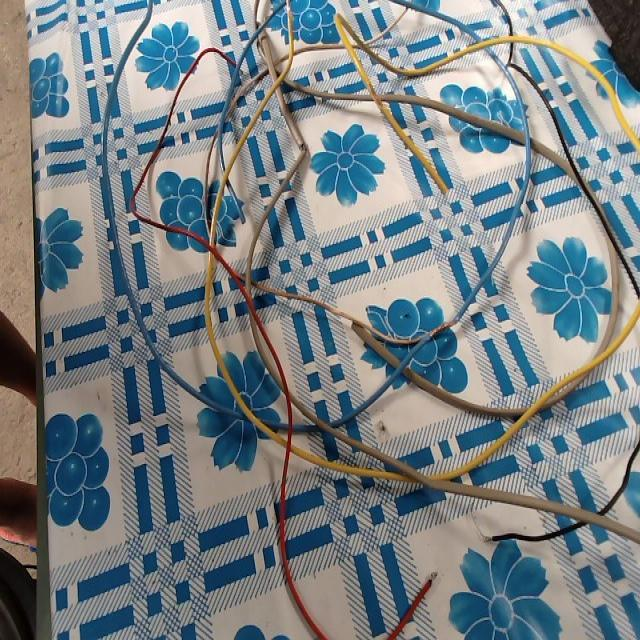-: (362, 78, 389, 118), (427, 314, 458, 342), (423, 564, 442, 585), (480, 531, 496, 548), (297, 140, 306, 161)
